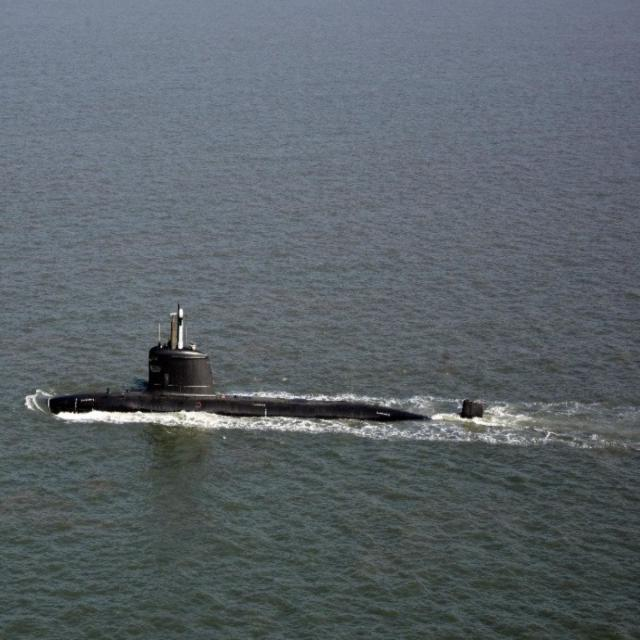Submarine-Kalvari-Class-IND: (15, 306, 529, 441)
